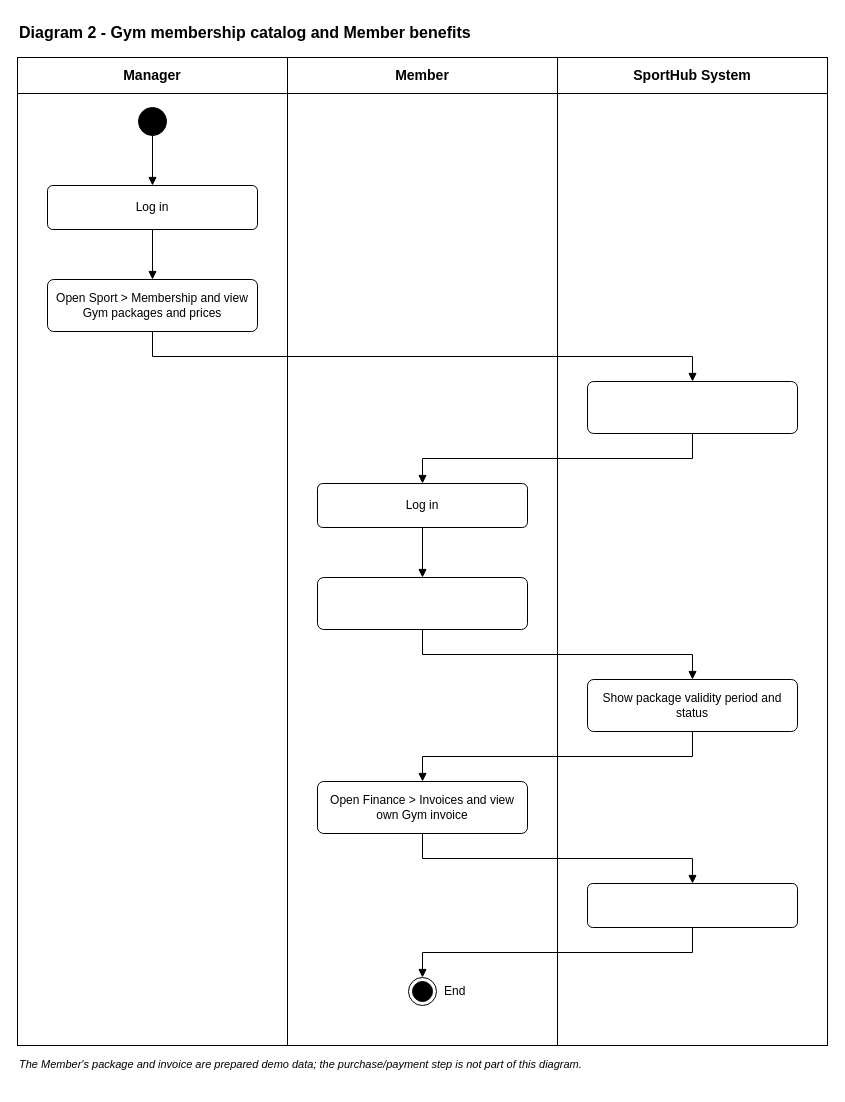
This 845x1102 diagram has some shape labels left out. The centre of each missing label's shape, as x and y in pixels:
"Open My services and view active Gym package" goes at (x=422, y=603).
"Show Gym package catalog and prices" goes at (x=692, y=407).
"Show the matching Gym invoice" goes at (x=692, y=905).
"Start" goes at (x=152, y=121).
